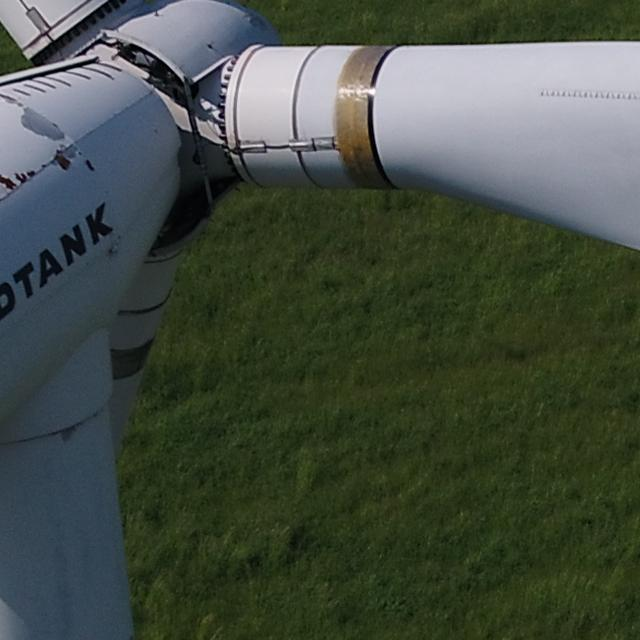damage: (534, 84, 637, 109), (19, 103, 67, 141), (48, 411, 97, 446), (1, 164, 41, 199), (48, 147, 77, 174), (83, 157, 98, 169)
